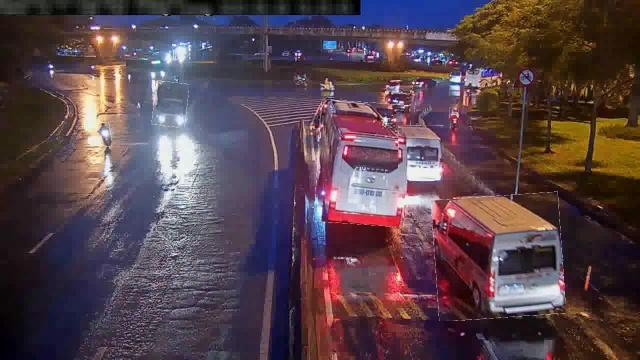Bike: (96, 122, 112, 148), (450, 107, 460, 129)
Bus: (432, 195, 564, 320), (316, 102, 408, 226), (398, 126, 444, 180)
Car: (384, 92, 416, 112)
Truck: (152, 81, 188, 127)
